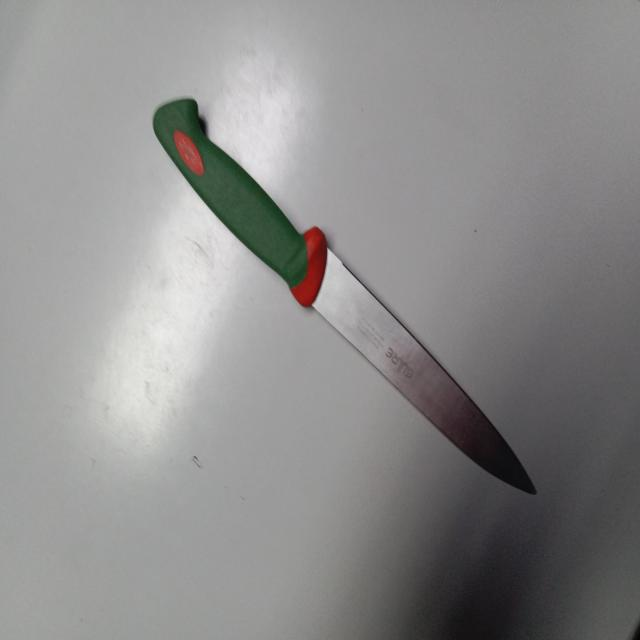Knife: (153, 98, 537, 494)
